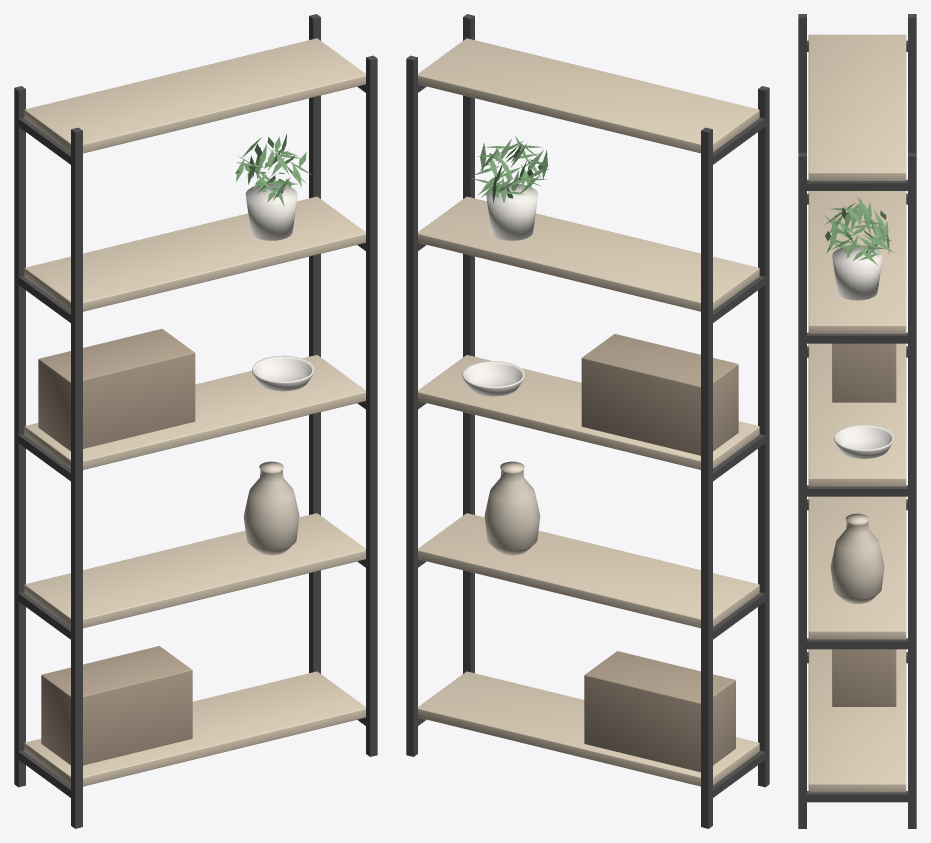
Rendered from mo_shelving.glb.
3 renders of one model, left to right at view 1: azimuth 30°, elevation 25°; view 2: azimuth 150°, elevation 25°; view 3: azimuth 270°, elevation 25°, orthographic. The views are drawn at different scales.
Visible parts, largest first — view 1: shelf4, shelf1, shelf3, books2, books0, shelf0, shelf2, post, post.002, post.001, post.003, vase (+8 smaller); view 2: shelf4, shelf1, shelf3, books2, books0, shelf0, shelf2, post.001, post.003, post, post.002, vase (+8 smaller); view 3: shelf4, shelf1, shelf0, shelf3, shelf2, post.002, post.003, books2, books0, vase, plant, pot (+8 smaller).
Boxes of the visible parts, x1,y1,x2,y2 form: shelf4: (24, 38, 365, 153); shelf1: (24, 513, 365, 628); shelf3: (24, 196, 365, 311); books2: (38, 329, 195, 451); books0: (41, 646, 192, 765); shelf0: (24, 671, 365, 786); shelf2: (24, 355, 365, 469); post: (71, 127, 82, 828); post.002: (366, 55, 377, 756); post.001: (14, 86, 25, 787); post.003: (309, 14, 320, 673); vase: (243, 461, 299, 555); shelf4: (418, 38, 759, 153); shelf1: (418, 513, 759, 628); shelf3: (418, 196, 759, 311); books2: (581, 334, 738, 455); books0: (584, 651, 735, 772); shelf0: (418, 671, 759, 786); shelf2: (418, 355, 759, 469); post.001: (701, 127, 712, 828); post.003: (406, 55, 417, 756); post: (758, 86, 769, 787); post.002: (463, 14, 474, 673); vase: (484, 461, 540, 555); shelf4: (808, 34, 906, 180); shelf1: (808, 496, 906, 639); shelf0: (808, 649, 906, 792); shelf3: (808, 191, 906, 333); shelf2: (808, 343, 906, 486); post.002: (798, 153, 806, 828); post.003: (908, 153, 916, 828); books2: (832, 343, 896, 402); books0: (832, 649, 896, 706); vase: (830, 513, 884, 603); plant: (824, 196, 893, 265); pot: (832, 245, 882, 300).
Bounding box in the file's own units: 1 × 2.2 × 0.35.
